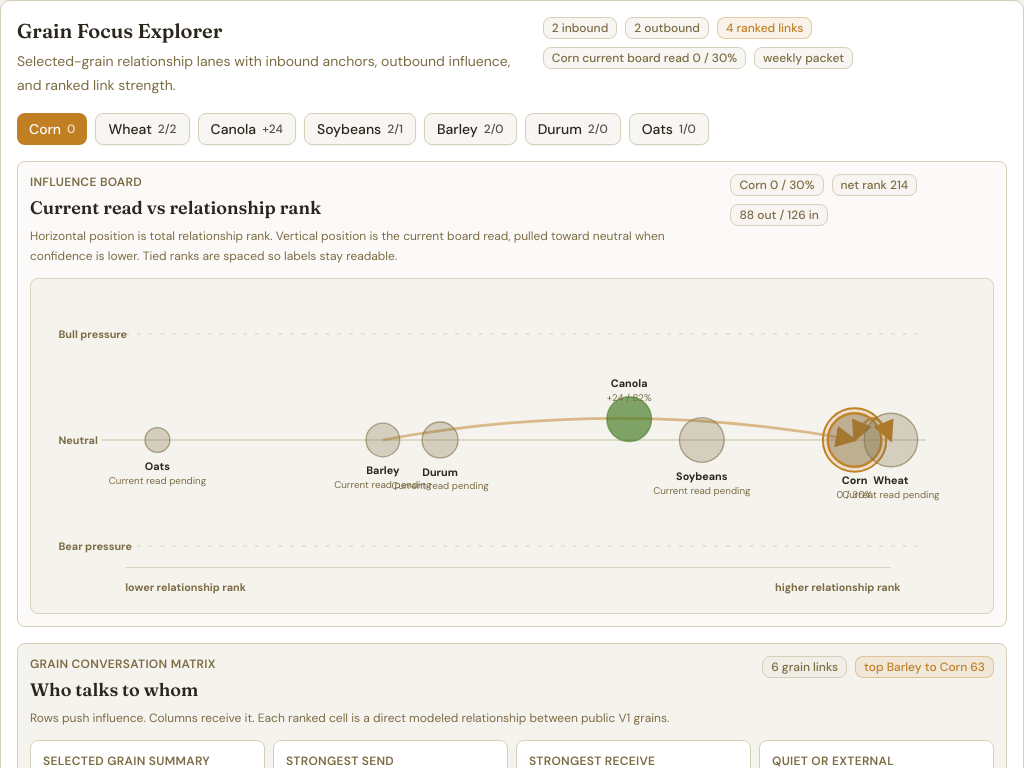
GrainRelationshipExplorer › switches the selected influence lens when a grain button is clicked
This screenshot has width=1024, height=768.
Expected: the picture named "Influence board" is shown, left=31, top=279, right=993, bottom=613
Expected: the heading "Current read vs relationship rank" is shown, left=30, top=196, right=321, bottom=219
Click the button named "Canola+24": (247, 129) left=198, top=113, right=296, bottom=145
(page scrolled)
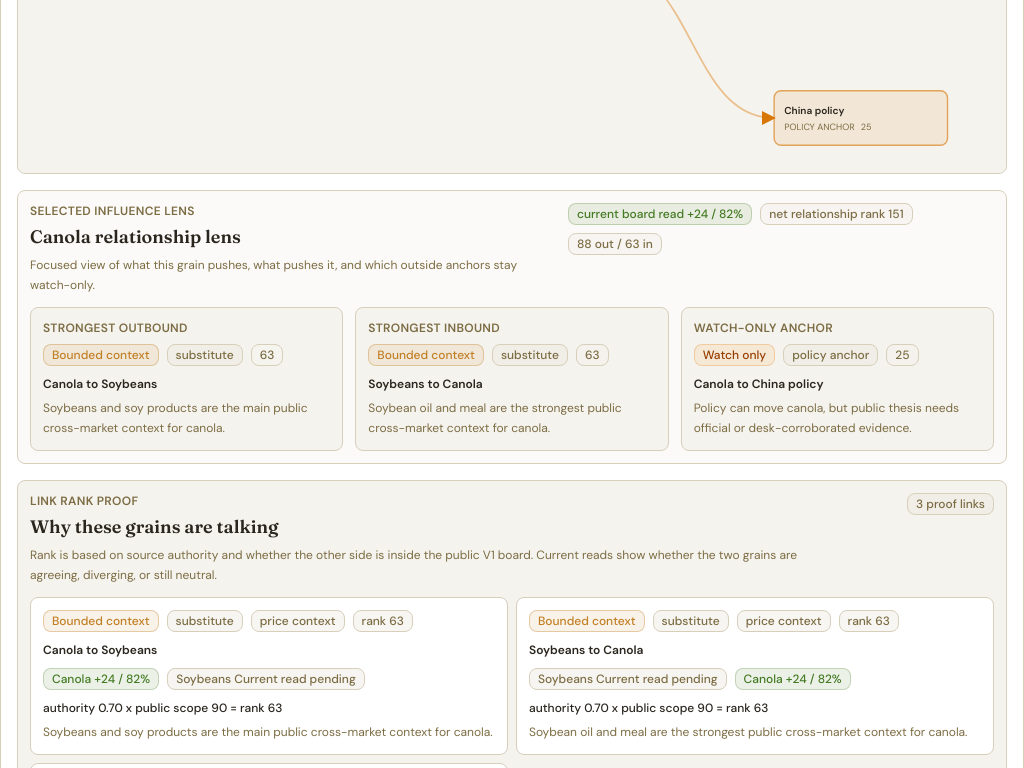
Expected: the heading "Canola relationship lens" is shown, left=30, top=225, right=241, bottom=248
Expected: the text "current board read +24 / 82%" is shown, left=568, top=203, right=752, bottom=225
Expected: the text "Canola to Soybeans" below "Strongest outbound" is shown, left=43, top=376, right=157, bottom=392
